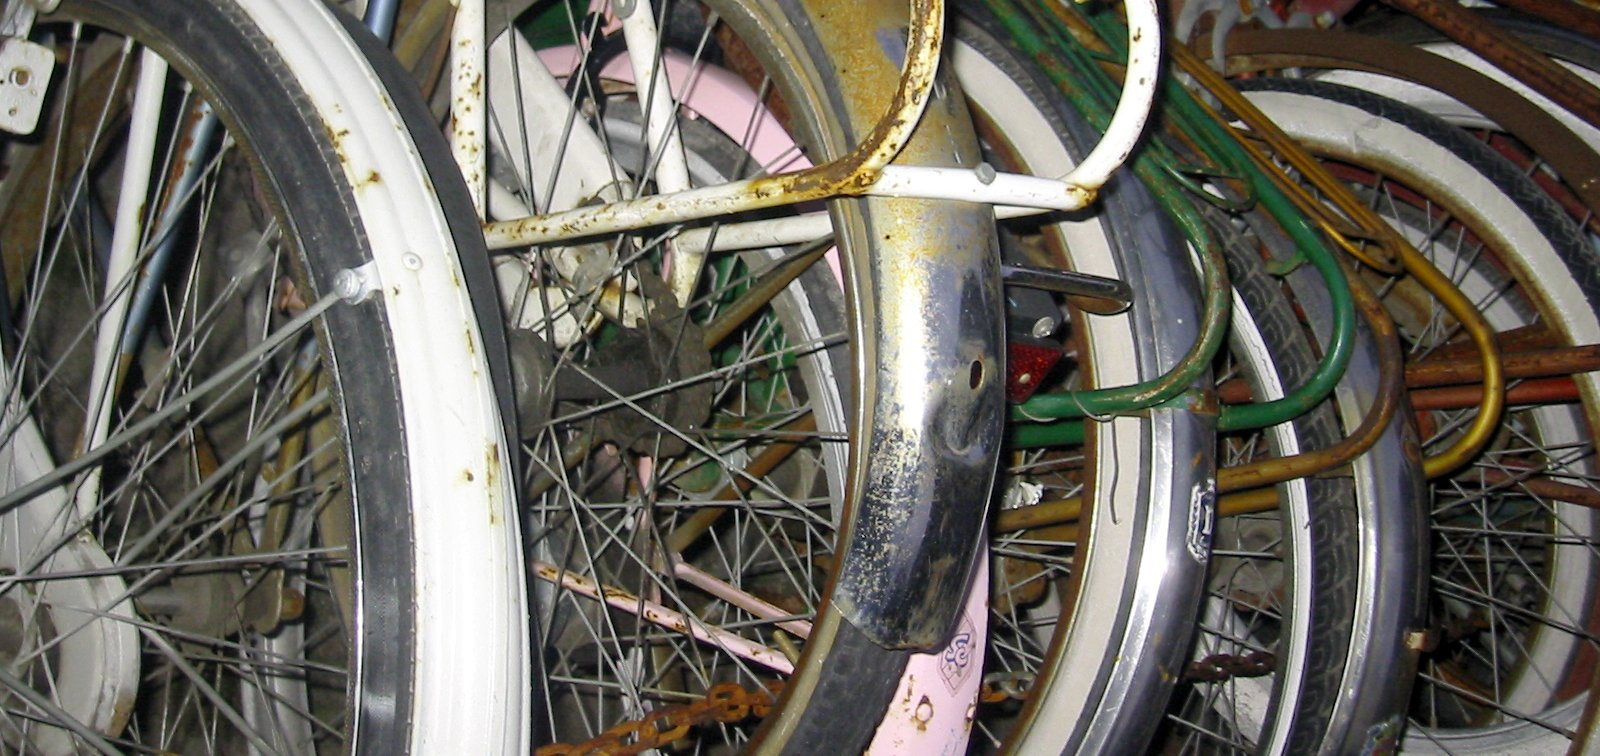Bicycle: (1, 27, 1583, 752)
